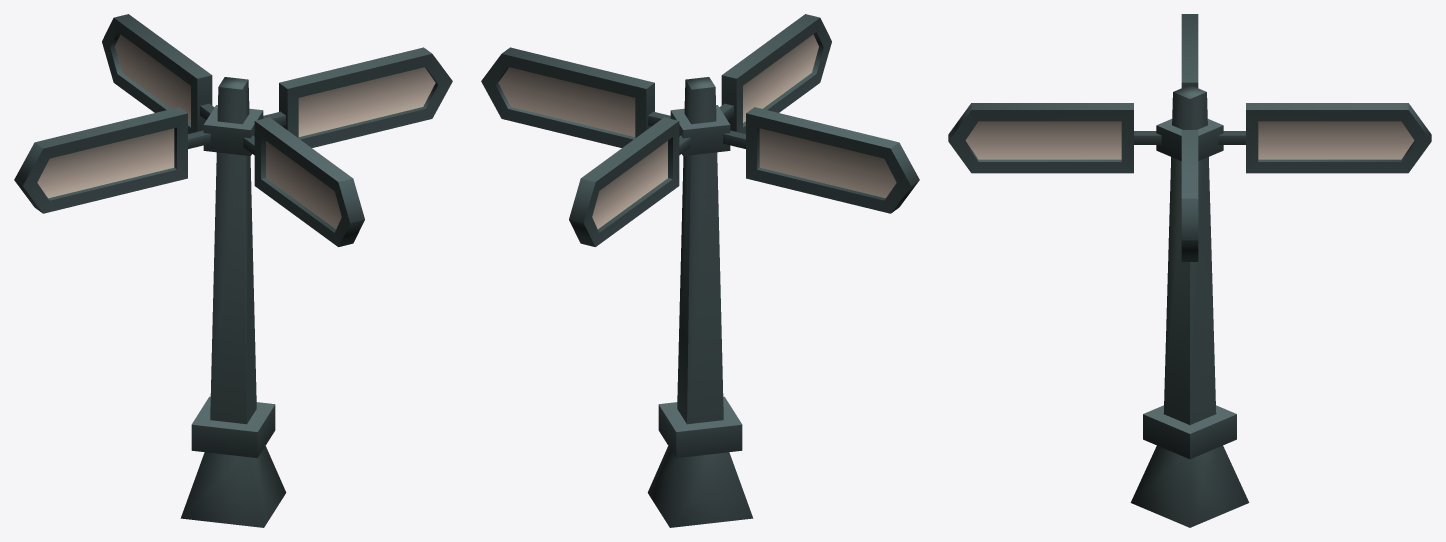
Rendered from Streetsign_1C.fbx.
3 renders of one model, left to right at view 1: azimuth 30°, elevation 25°; view 2: azimuth 150°, elevation 25°; view 3: azimuth 270°, elevation 25°, orthographic. The views are drawn at different scales.
Parts seen in each view (by area): view 1: Streetsign_1C; view 2: Streetsign_1C; view 3: Streetsign_1C.
Part boxes in pixels (<box>): Streetsign_1C: <box>14,14,452,527</box>; Streetsign_1C: <box>481,14,919,527</box>; Streetsign_1C: <box>948,14,1431,527</box>.
Size of the model in its own units: 346 by 324 by 346.
